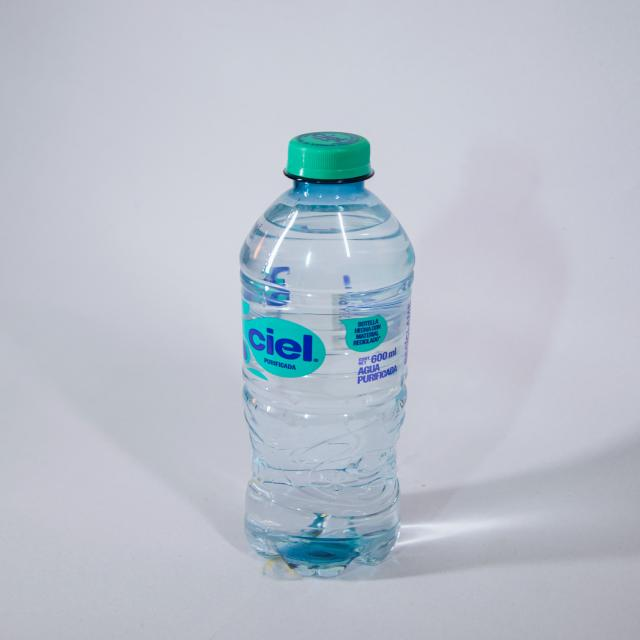Bottle: (241, 132, 414, 576)
